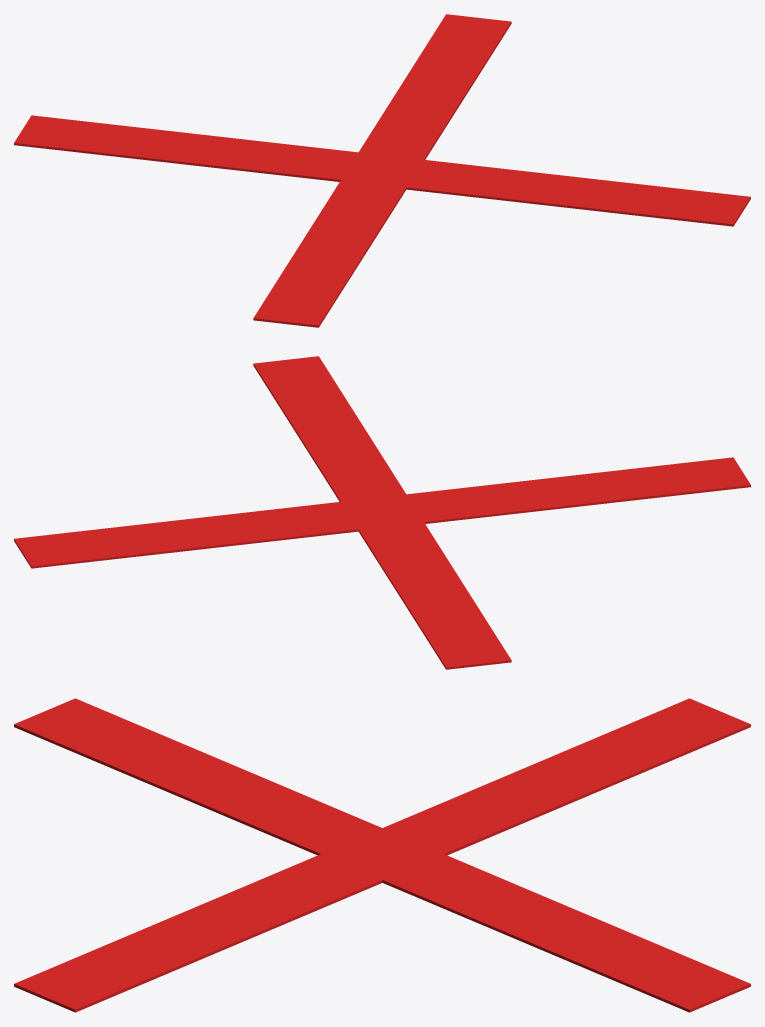
The model's file is Cross.gltf.
3 views of the same model, one above another, from view 1: azimuth 30°, elevation 25°; view 2: azimuth 150°, elevation 25°; view 3: azimuth 270°, elevation 25° (orthographic). The views are drawn at different scales.
Parts seen in each view (by area): view 1: Cube; view 2: Cube; view 3: Cube.
Part boxes in pixels (bbox=[...]): Cube: bbox=[14, 14, 750, 327]; Cube: bbox=[14, 356, 750, 669]; Cube: bbox=[14, 698, 750, 1012].
Bounding box in the file's own units: 5.58 × 0.0236 × 5.58.
